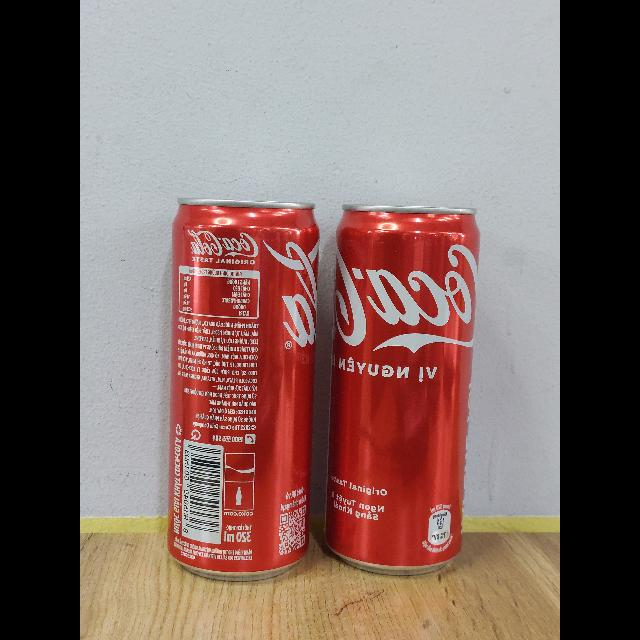coca_cola: (166, 201, 320, 583), (324, 206, 480, 576)
